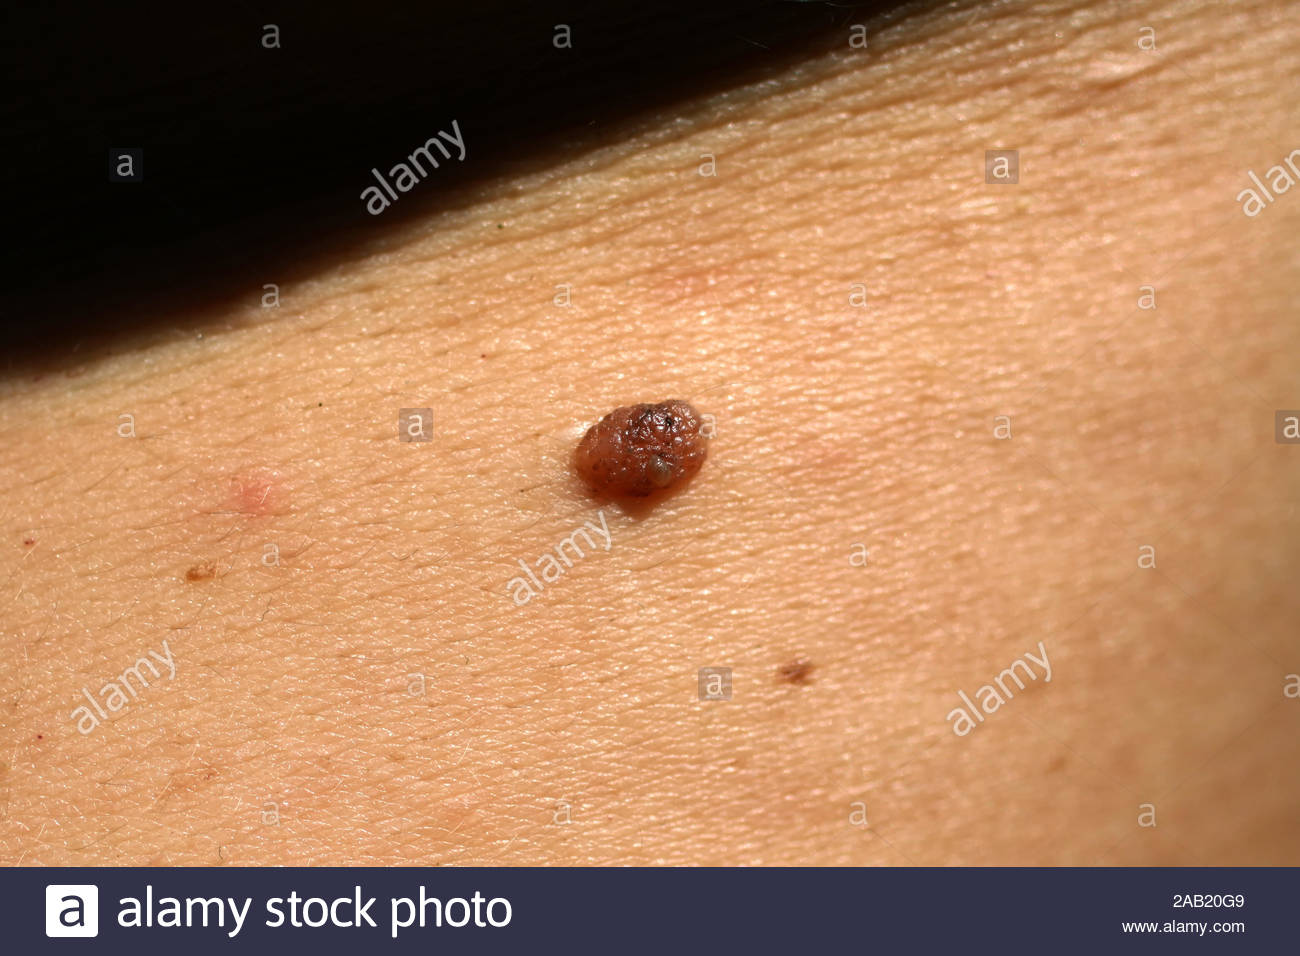melanoma: (452, 338, 807, 598)
